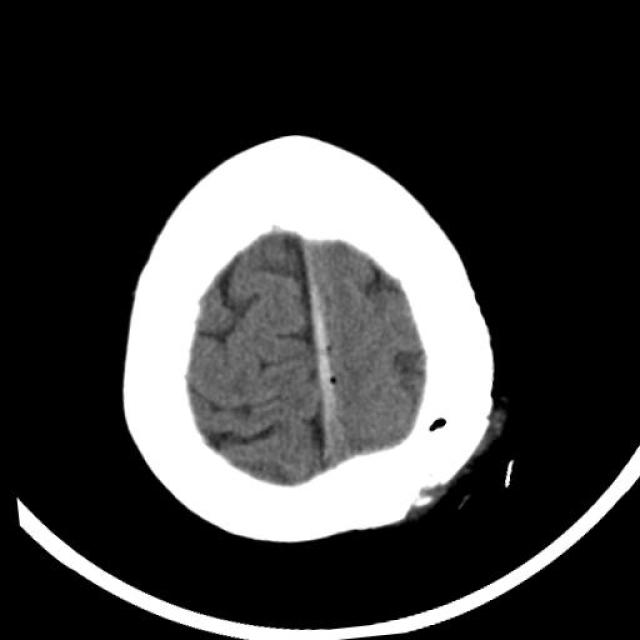Subdural: (276, 239, 369, 482)
